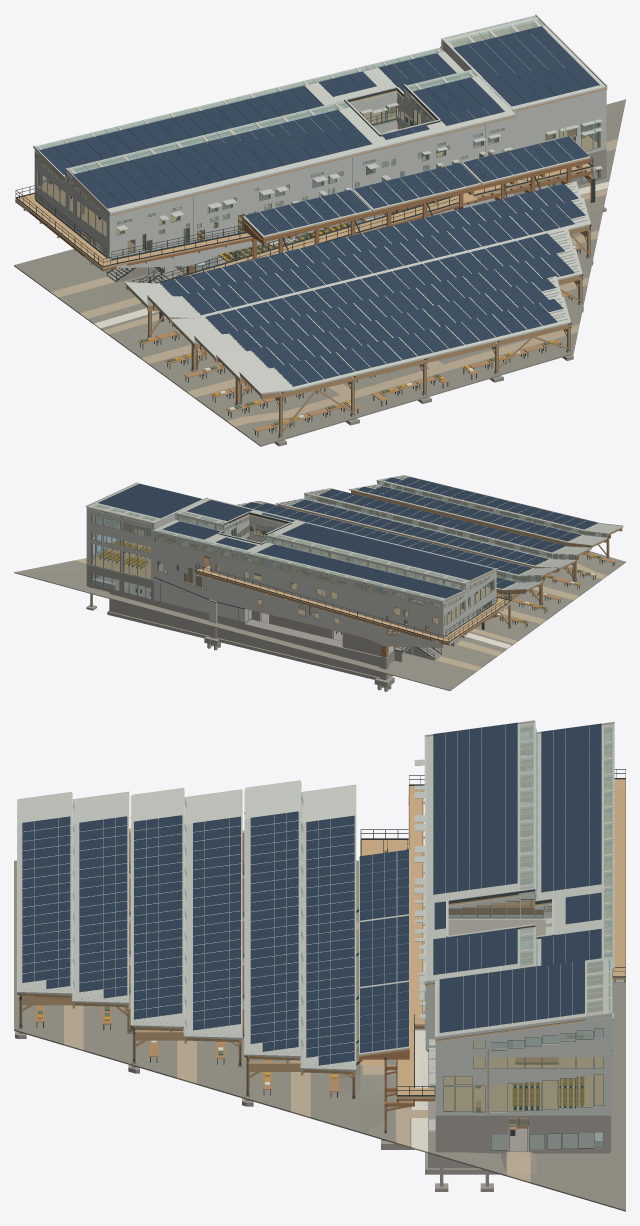
The model's file is market-switchback.glb.
The picture shows the model from 3 angles, top to bottom: view 1: azimuth 30°, elevation 25°; view 2: azimuth 150°, elevation 25°; view 3: azimuth 270°, elevation 25°; orthographic projection. The views are drawn at different scales.
Parts seen in each view (by area): view 1: Energy / Roof photovoltaics | Blue-black photovoltaics, Enclosure / Insulated folded cassettes | Galvanized silver, Site / Market court paving | Basalt pavers, Market / Folded zinc roof planes | Galvanized silver, Energy / Arcade photovoltaics | Blue-black photovoltaics, Site / Market court paving | Buff limestone pavers, Enclosure / Standing seam zinc and membrane | Galvanized sil, Energy / Roof daylight apertures | Translucent channel glass, Circulation / Promenade rails | Graphite steel, Enclosure / Vision lights in recessed frames | Vision glass, Energy / Market PV cross rails | Galvanized silver, Enclosure / Insulated rooflight curbs | Galvanized silver (+26 smaller); view 2: Energy / Roof photovoltaics | Blue-black photovoltaics, Enclosure / Insulated folded cassettes | Galvanized silver, Site / Market court paving | Basalt pavers, Market / Folded zinc roof planes | Galvanized silver, Enclosure / Vision lights in recessed frames | Vision glass, Structure / Retaining walls | Board-formed concrete, Structure / Glulam market collectors | Glulam spruce, Enclosure / Diffuse upper lights | Translucent channel glass, Market / Operable northlight vents | Translucent channel gla, Enclosure / Standing seam zinc and membrane | Galvanized sil, Energy / Roof daylight apertures | Translucent channel glass, Enclosure / Insulated folded cassettes | Board-formed concre (+34 smaller); view 3: Energy / Roof photovoltaics | Blue-black photovoltaics, Market / Folded zinc roof planes | Galvanized silver, Site / Market court paving | Basalt pavers, Enclosure / Insulated folded cassettes | Galvanized silver, Energy / Arcade photovoltaics | Blue-black photovoltaics, Enclosure / Standing seam zinc and membrane | Galvanized sil, Enclosure / Vision lights in recessed frames | Vision glass, Energy / Roof daylight apertures | Translucent channel glass, Enclosure / Insulated folded cassettes | Board-formed concre, Site / Market court paving | Buff limestone pavers, Structure / Forum and terraces | CLT spruce, Enclosure / Insulated rooflight curbs | Galvanized silver (+26 smaller).
Part boxes in pixels (<box>): Energy / Roof photovoltaics | Blue-black photovoltaics: <box>39,26,599,386</box>; Enclosure / Insulated folded cassettes | Galvanized silver: <box>34,42,606,268</box>; Site / Market court paving | Basalt pavers: <box>14,99,625,446</box>; Market / Folded zinc roof planes | Galvanized silver: <box>125,181,590,393</box>; Energy / Arcade photovoltaics | Blue-black photovoltaics: <box>244,136,588,235</box>; Site / Market court paving | Buff limestone pavers: <box>50,139,617,427</box>; Enclosure / Standing seam zinc and membrane | Galvanized sil: <box>64,26,605,211</box>; Energy / Roof daylight apertures | Translucent channel glass: <box>36,16,544,174</box>; Circulation / Promenade rails | Graphite steel: <box>15,185,458,283</box>; Enclosure / Vision lights in recessed frames | Vision glass: <box>38,106,599,270</box>; Energy / Market PV cross rails | Galvanized silver: <box>160,183,587,386</box>; Enclosure / Insulated rooflight curbs | Galvanized silver: <box>35,15,545,173</box>; Energy / Roof photovoltaics | Blue-black photovoltaics: <box>98,477,597,598</box>; Enclosure / Insulated folded cassettes | Galvanized silver: <box>86,508,496,647</box>; Site / Market court paving | Basalt pavers: <box>14,507,625,690</box>; Market / Folded zinc roof planes | Galvanized silver: <box>236,475,622,590</box>; Enclosure / Vision lights in recessed frames | Vision glass: <box>91,526,493,635</box>; Structure / Retaining walls | Board-formed concrete: <box>109,592,404,667</box>; Structure / Glulam market collectors | Glulam spruce: <box>277,483,622,594</box>; Enclosure / Diffuse upper lights | Translucent channel glass: <box>91,508,489,607</box>; Market / Operable northlight vents | Translucent channel gla: <box>304,481,606,582</box>; Enclosure / Standing seam zinc and membrane | Galvanized sil: <box>94,483,494,598</box>; Energy / Roof daylight apertures | Translucent channel glass: <box>87,503,467,600</box>; Enclosure / Insulated folded cassettes | Board-formed concre: <box>86,565,332,638</box>; Energy / Roof photovoltaics | Blue-black photovoltaics: <box>22,722,601,1065</box>; Market / Folded zinc roof planes | Galvanized silver: <box>18,780,356,1069</box>; Site / Market court paving | Basalt pavers: <box>14,860,625,1211</box>; Enclosure / Insulated folded cassettes | Galvanized silver: <box>425,727,612,1115</box>; Energy / Arcade photovoltaics | Blue-black photovoltaics: <box>360,849,408,1052</box>; Enclosure / Standing seam zinc and membrane | Galvanized sil: <box>426,724,602,1036</box>; Enclosure / Vision lights in recessed frames | Vision glass: <box>444,899,603,1149</box>; Energy / Roof daylight apertures | Translucent channel glass: <box>520,722,613,1015</box>; Enclosure / Insulated folded cassettes | Board-formed concre: <box>435,884,611,1152</box>; Site / Market court paving | Buff limestone pavers: <box>64,922,530,1183</box>; Structure / Forum and terraces | CLT spruce: <box>444,1039,603,1111</box>; Enclosure / Insulated rooflight curbs | Galvanized silver: <box>518,722,614,1015</box>.
Size of the model in its own units: 82.91 by 20.24 by 57.91.
